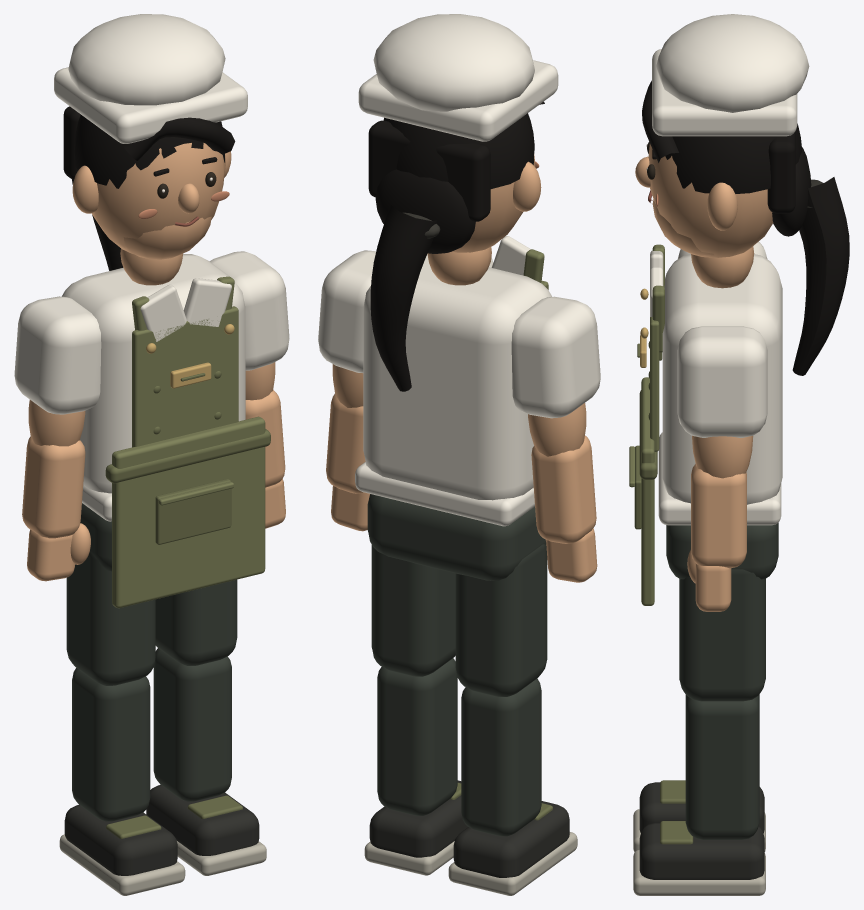
Rendered from chef-female.glb.
3 views of the same model, side by side, from view 1: azimuth 30°, elevation 25°; view 2: azimuth 150°, elevation 25°; view 3: azimuth 270°, elevation 25° (orthographic). The views are drawn at different scales.
Parts seen in each view (by area): view 1: Spine_crew_apron, Head_crew_shirt, Spine_crew_shirt, Head_crew_skin, LeftKnee_crew_trousers, RightKnee_crew_trousers, LeftShoulder_crew_shirt, LeftHip_crew_trousers, Spine_crew_seam, RightHip_crew_trousers, LeftElbow_crew_skin, RightShoulder_crew_shirt (+16 smaller); view 2: Spine_crew_shirt, Head_crew_shirt, LongHair_crew_hair, LeftKnee_crew_trousers, RightKnee_crew_trousers, LeftHip_crew_trousers, Head_crew_hair, Hips_crew_trousers, LeftShoulder_crew_shirt, RightHip_crew_trousers, LeftElbow_crew_skin, RightShoulder_crew_shirt (+12 smaller); view 3: Spine_crew_shirt, Head_crew_shirt, RightKnee_crew_trousers, RightHip_crew_trousers, RightShoulder_crew_shirt, LongHair_crew_hair, Head_crew_skin, Head_crew_hair, RightAnkle_crew_shoes, RightElbow_crew_skin, Spine_crew_apron, Hips_crew_trousers (+8 smaller).
Part boxes in pixels (x1,y1,x2,y2): Spine_crew_apron: [112, 276, 265, 608]; Head_crew_shirt: [54, 14, 247, 143]; Spine_crew_shirt: [62, 254, 245, 521]; Head_crew_skin: [72, 143, 231, 259]; LeftKnee_crew_trousers: [72, 668, 150, 821]; RightKnee_crew_trousers: [153, 648, 231, 801]; LeftShoulder_crew_shirt: [14, 296, 101, 414]; LeftHip_crew_trousers: [66, 551, 155, 685]; Spine_crew_seam: [105, 371, 270, 544]; RightHip_crew_trousers: [155, 579, 237, 665]; LeftElbow_crew_skin: [22, 436, 85, 538]; RightShoulder_crew_shirt: [209, 251, 289, 370]; Spine_crew_shirt: [355, 236, 551, 526]; Head_crew_shirt: [358, 14, 558, 141]; LongHair_crew_hair: [370, 101, 544, 391]; LeftKnee_crew_trousers: [461, 678, 541, 836]; RightKnee_crew_trousers: [377, 658, 457, 815]; LeftHip_crew_trousers: [455, 544, 547, 696]; Head_crew_hair: [368, 113, 534, 221]; Hips_crew_trousers: [367, 494, 546, 580]; LeftShoulder_crew_shirt: [511, 296, 600, 418]; RightHip_crew_trousers: [371, 545, 455, 676]; LeftElbow_crew_skin: [531, 435, 596, 543]; RightShoulder_crew_shirt: [318, 250, 375, 372]; Spine_crew_shirt: [650, 250, 782, 525]; Head_crew_shirt: [652, 14, 809, 136]; RightKnee_crew_trousers: [685, 695, 759, 839]; RightHip_crew_trousers: [679, 569, 765, 701]; RightShoulder_crew_shirt: [677, 326, 767, 437]; LongHair_crew_hair: [642, 80, 849, 375]; Head_crew_skin: [635, 144, 773, 257]; Head_crew_hair: [652, 123, 801, 213]; RightAnkle_crew_shoes: [639, 823, 764, 879]; RightElbow_crew_skin: [691, 464, 746, 568]; Spine_crew_apron: [629, 244, 664, 605]; Hips_crew_trousers: [666, 523, 778, 579].
Size of the model in its own units: 0.5761 by 1.81 by 0.4323.
